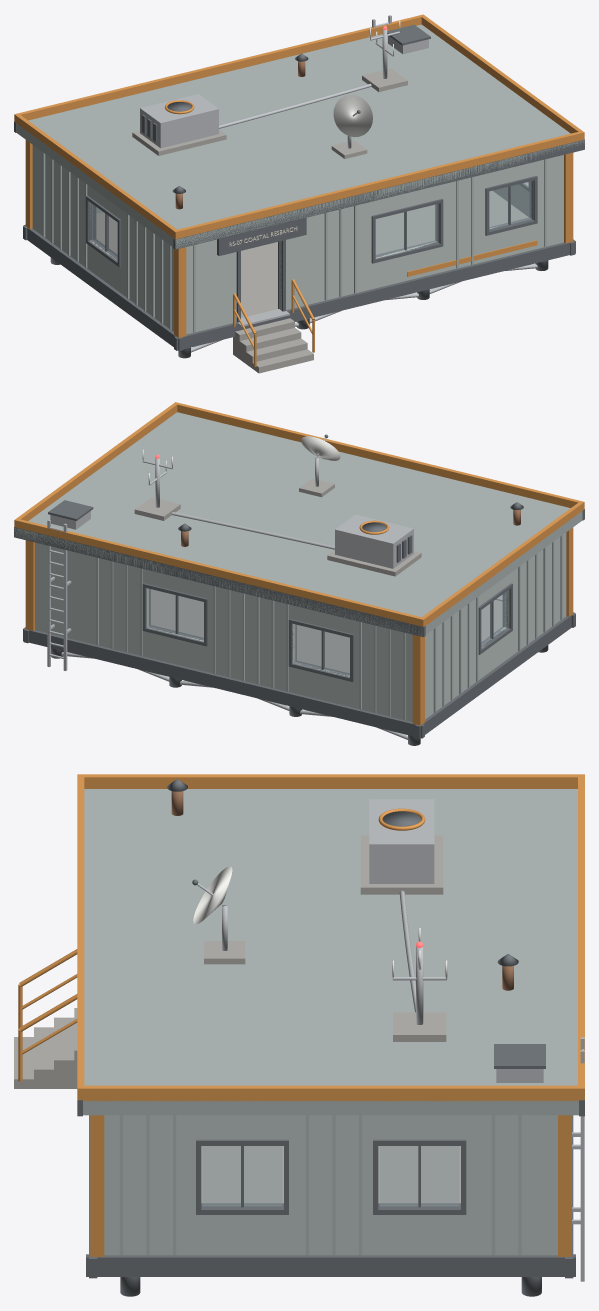
The model's file is main-station-module-grouped.glb.
3 renders of one model, top to bottom at view 1: azimuth 30°, elevation 25°; view 2: azimuth 150°, elevation 25°; view 3: azimuth 270°, elevation 25°, orthographic. The views are drawn at different scales.
Parts seen in each view (by area): view 1: Roof_Group, Walls_Group, Foundation_Group, OpeningsFrames_Group, RoofEquipment_Group, Stairs_Group, Signage_Group; view 2: Roof_Group, Walls_Group, Foundation_Group, RoofEquipment_Group, OpeningsFrames_Group, Ladder_Group; view 3: Roof_Group, Walls_Group, Foundation_Group, RoofEquipment_Group, OpeningsFrames_Group, Stairs_Group, Ladder_Group.
Boxes of the visible parts, left/top/right/bottom form: Roof_Group: left=14, top=14, right=584, bottom=249; Walls_Group: left=25, top=140, right=573, bottom=337; Foundation_Group: left=23, top=191, right=575, bottom=358; OpeningsFrames_Group: left=86, top=176, right=537, bottom=326; RoofEquipment_Group: left=132, top=20, right=430, bottom=209; Stairs_Group: left=233, top=279, right=314, bottom=373; Signage_Group: left=217, top=217, right=537, bottom=276; Roof_Group: left=14, top=402, right=584, bottom=637; Walls_Group: left=25, top=527, right=573, bottom=725; Foundation_Group: left=23, top=589, right=575, bottom=745; RoofEquipment_Group: left=48, top=434, right=523, bottom=576; OpeningsFrames_Group: left=142, top=583, right=512, bottom=681; Ladder_Group: left=47, top=519, right=71, bottom=670; Roof_Group: left=77, top=774, right=584, bottom=1116; Walls_Group: left=90, top=1115, right=571, bottom=1256; Foundation_Group: left=86, top=1115, right=575, bottom=1296; RoofEquipment_Group: left=167, top=779, right=545, bottom=1082; OpeningsFrames_Group: left=196, top=1139, right=466, bottom=1214; Stairs_Group: left=14, top=949, right=77, bottom=1088; Ladder_Group: left=572, top=1037, right=584, bottom=1281.
Bounding box in the file's own units: 2 × 0.8986 × 1.53.
